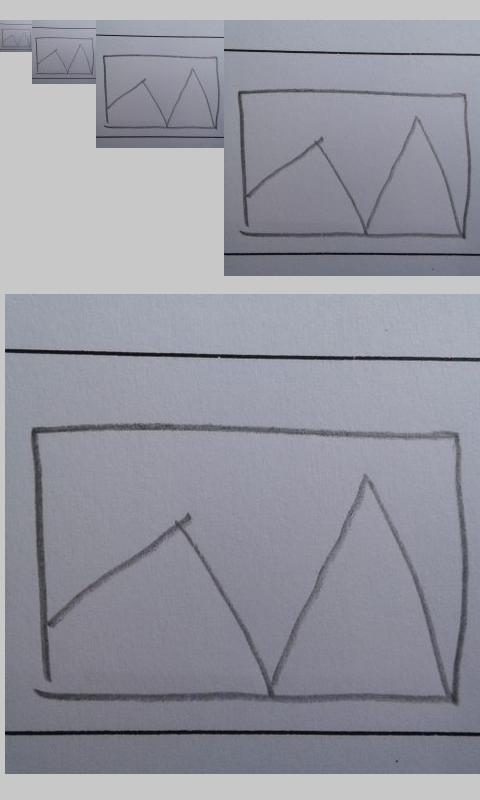image_view: (29, 422, 468, 708), (237, 88, 473, 242), (103, 53, 222, 131), (35, 36, 94, 76), (1, 28, 31, 48)
